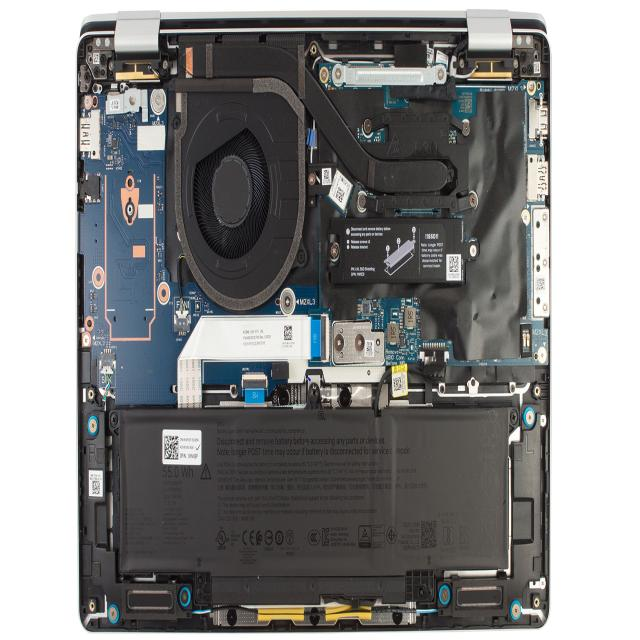battery: (121, 409, 508, 566)
innerscrew: (438, 586, 452, 606), (180, 588, 188, 609), (173, 114, 181, 134), (110, 412, 119, 428), (510, 412, 518, 426)
ssd: (329, 217, 472, 286)
wifi: (328, 166, 355, 218)
